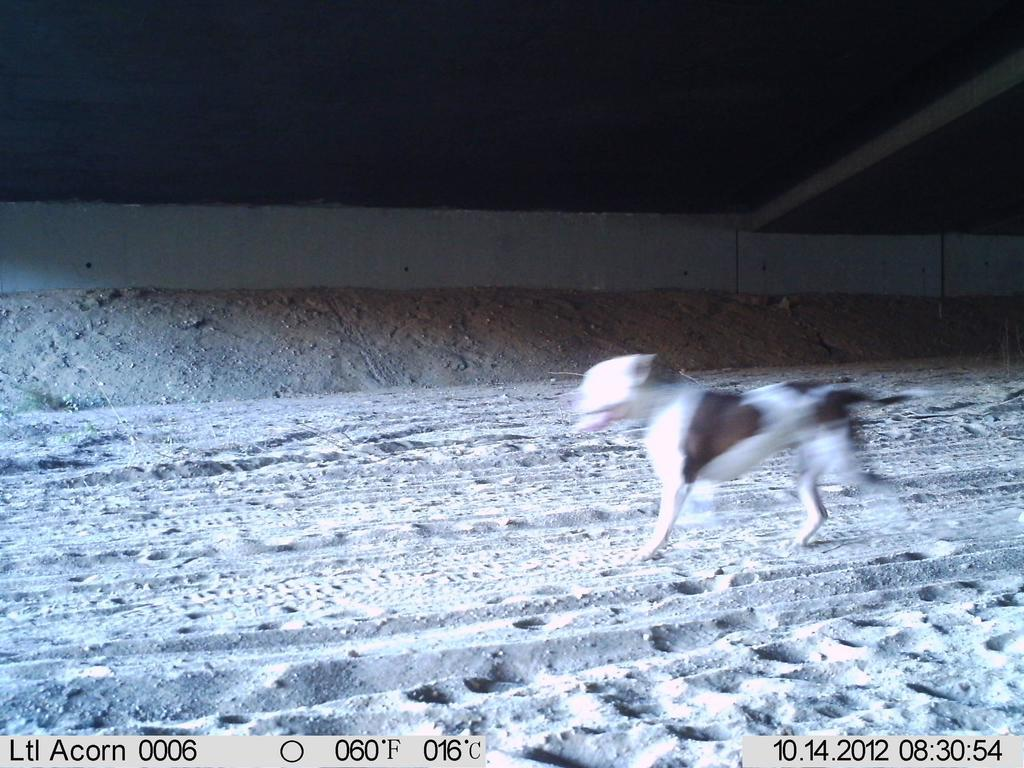dog: (567, 341, 953, 571)
